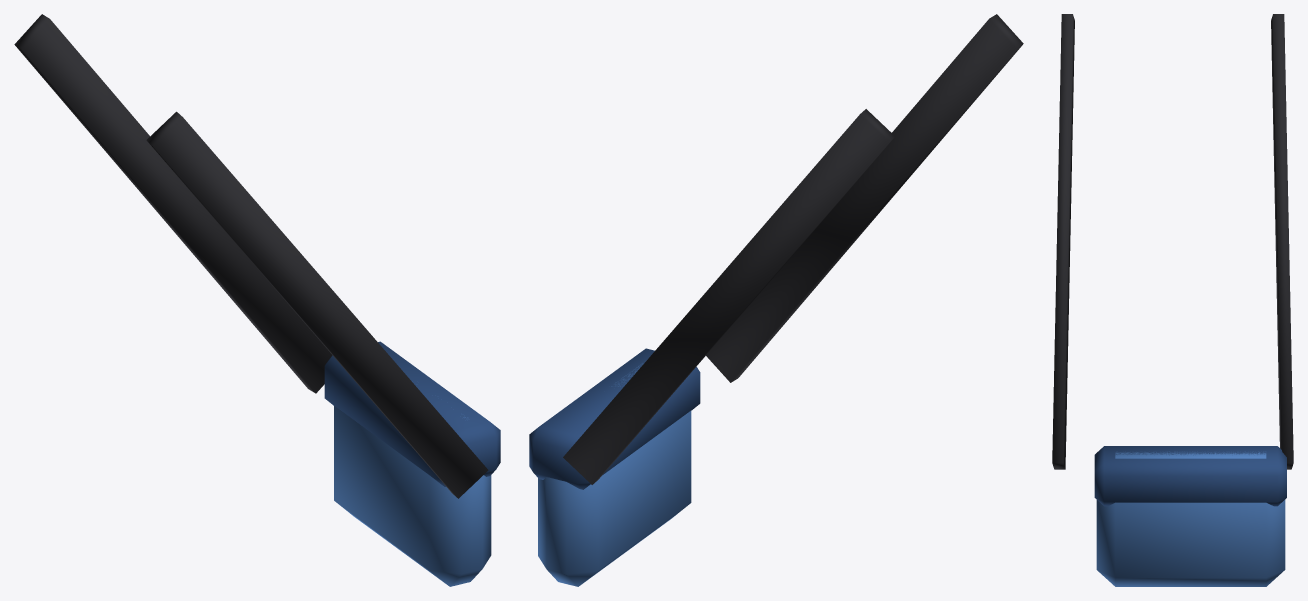
Rendered from acc_bag.glb.
3 views of the same model, side by side, from view 1: azimuth 30°, elevation 25°; view 2: azimuth 150°, elevation 25°; view 3: azimuth 270°, elevation 25° (orthographic). The views are drawn at different scales.
Visible parts, largest first — view 1: Body; view 2: Body; view 3: Body.
Part boxes in pixels (x1,y1,x2,y2): Body: [14, 14, 500, 586]; Body: [529, 14, 1023, 586]; Body: [1052, 14, 1293, 586].
Bounding box in the file's own units: 0.3614 × 0.5256 × 0.2561.
